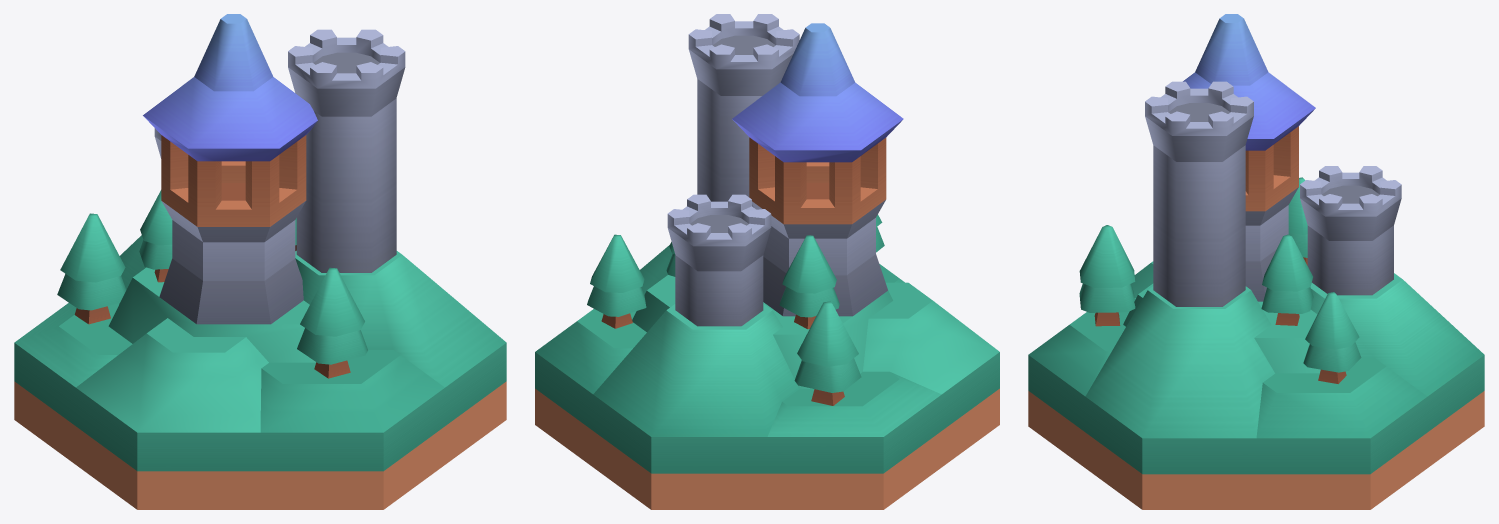
Rendered from building-wizard-tower.fbx.
3 views of the same model, side by side, from view 1: azimuth 30°, elevation 25°; view 2: azimuth 150°, elevation 25°; view 3: azimuth 270°, elevation 25° (orthographic). The views are drawn at different scales.
Parts seen in each view (by area): view 1: building_wizard_tower; view 2: building_wizard_tower; view 3: building_wizard_tower.
Boxes of the visible parts, x1,y1,x2,y2 form: building_wizard_tower: (14, 14, 506, 509); building_wizard_tower: (535, 14, 999, 509); building_wizard_tower: (1028, 14, 1484, 509).
Size of the model in its own units: 100 by 109 by 115.
1 material, 1 textured.
